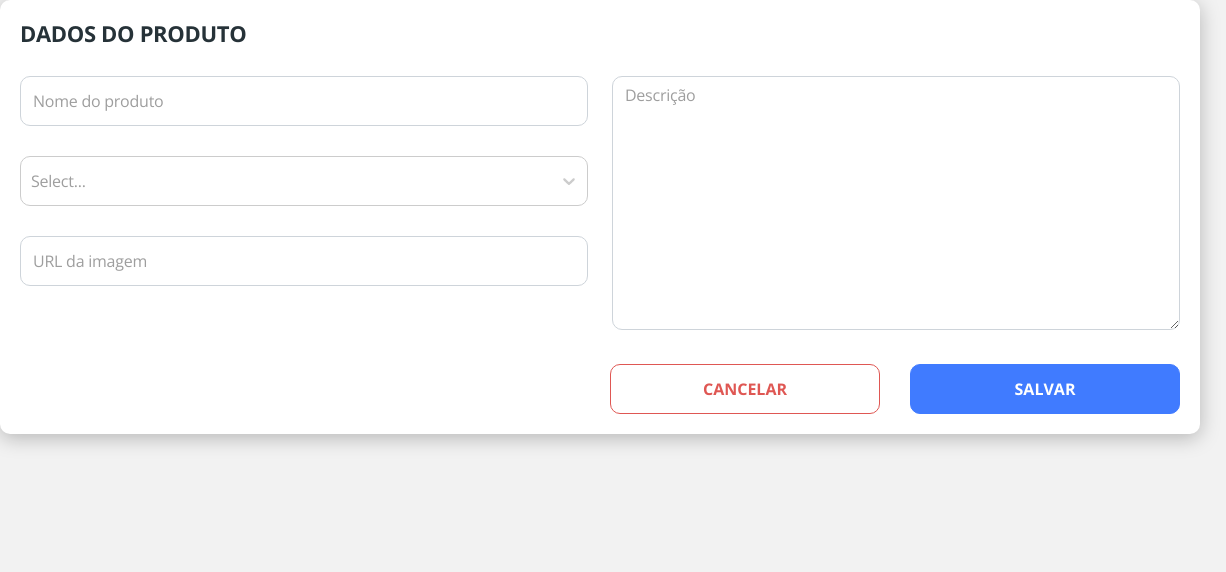
Scenario: Product create tests › should show 5 validation messages when just clicking submit
What coordinates should you click on to do the following:
click the button "SALVAR"
I would click on:
 (1045, 389)
Its box is [910, 364, 1180, 414].
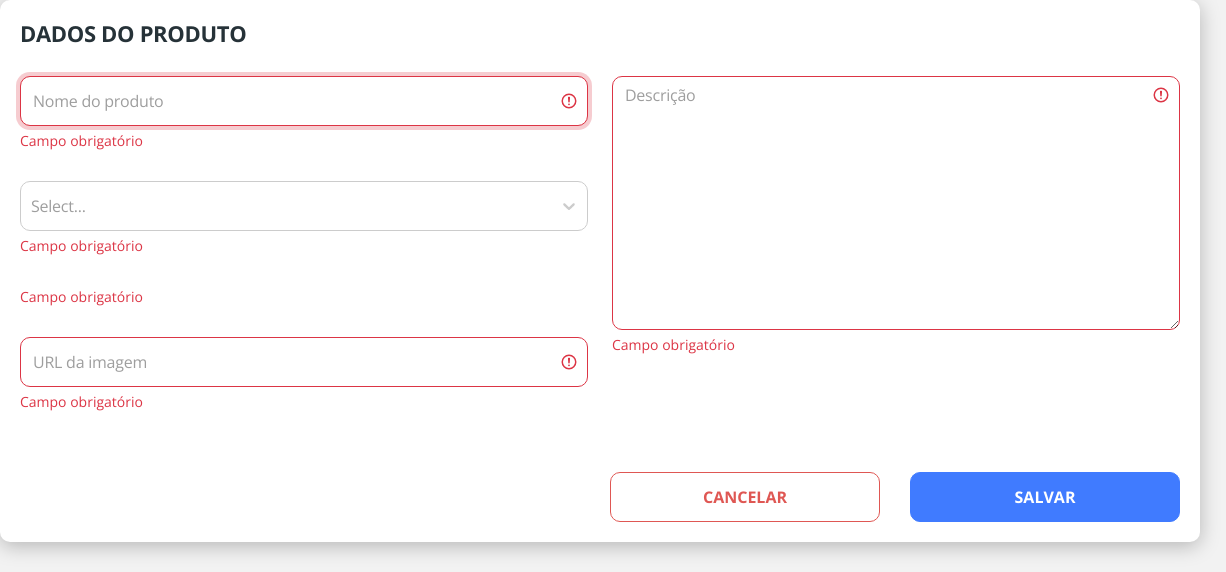
Check: the text "Campo obrigatório" is shown 5 times, box [20, 131, 143, 150]; [20, 236, 143, 255]; [20, 287, 143, 306]; [20, 392, 143, 411]; [612, 335, 735, 354]
